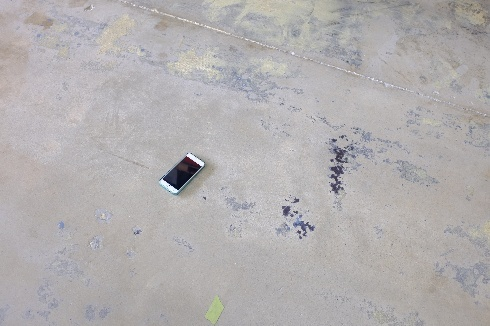phone: (157, 157, 206, 189)
